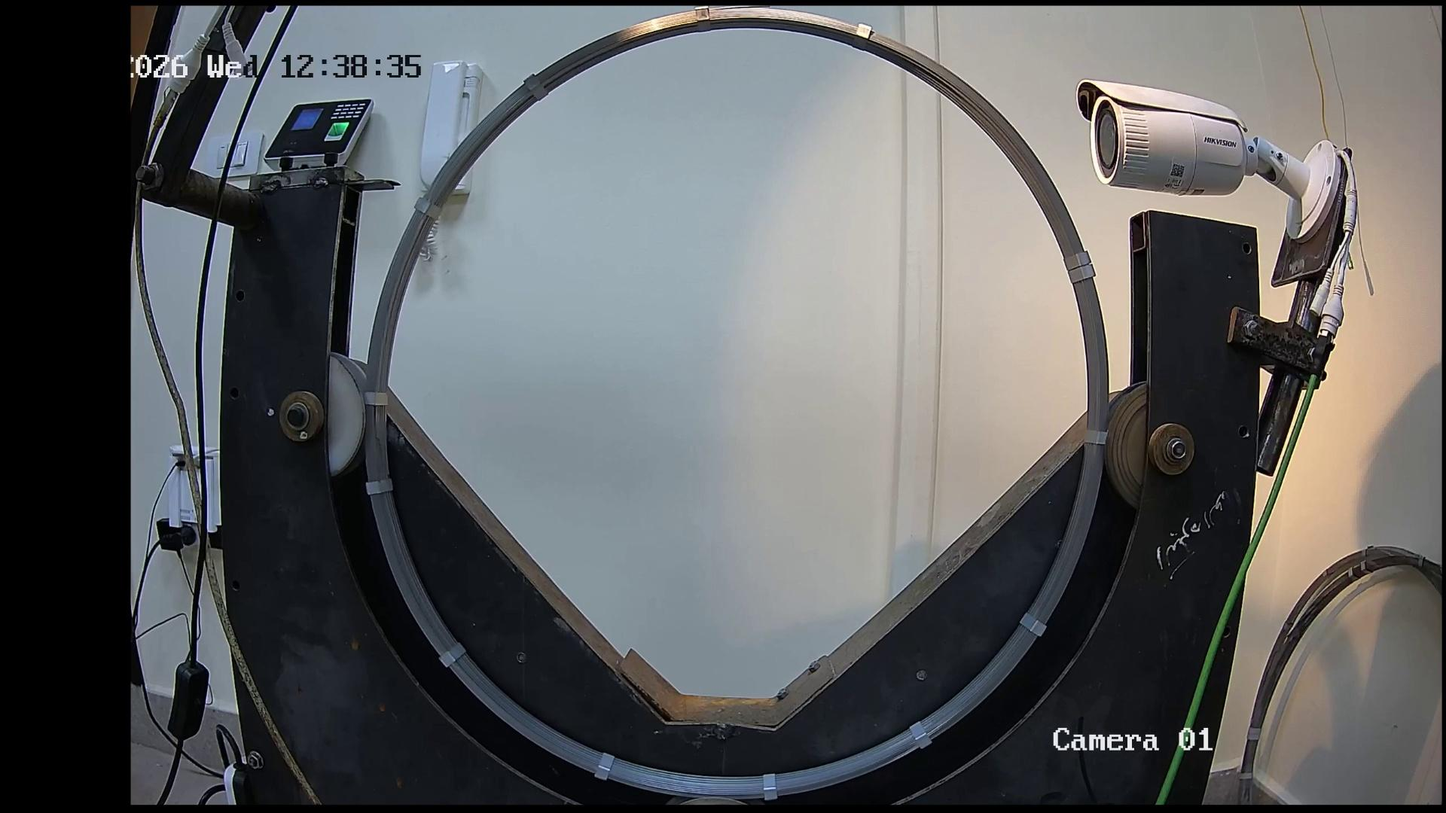clamp: (891, 715, 943, 757), (1051, 239, 1115, 269), (838, 13, 883, 55), (508, 70, 561, 104), (751, 762, 795, 802), (678, 2, 725, 38), (1064, 425, 1118, 455), (587, 749, 633, 783), (1019, 598, 1058, 638), (435, 638, 476, 674), (348, 480, 407, 504), (356, 384, 395, 418), (412, 186, 441, 228), (1045, 267, 1117, 279)
